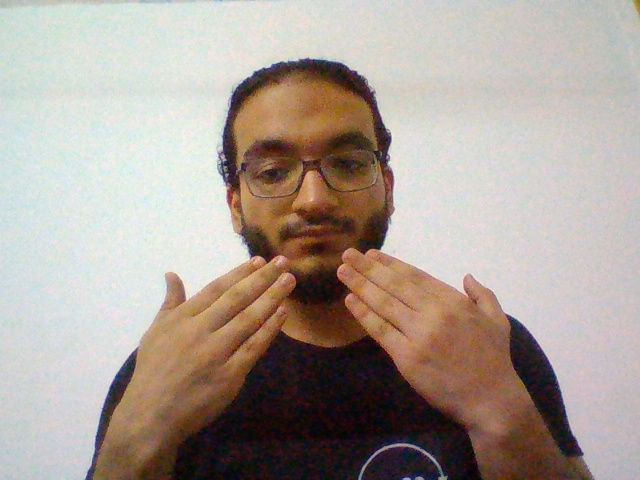Thanks: (108, 246, 550, 449)
